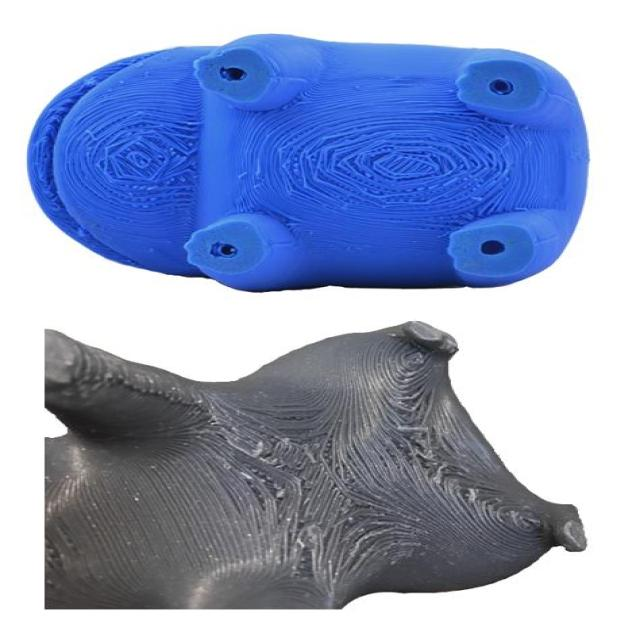spaghetti: (59, 344, 562, 613), (268, 108, 519, 225), (76, 109, 217, 211)
